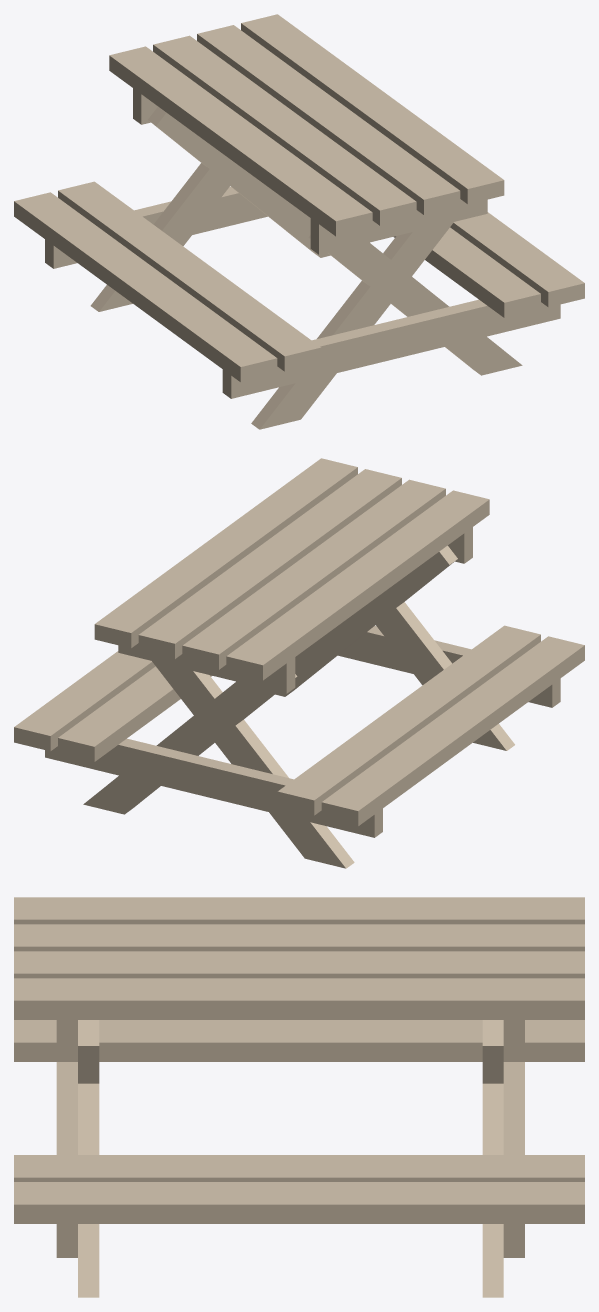
The model's file is outdoor_table.glb.
3 views of the same model, one above another, from view 1: azimuth 30°, elevation 25°; view 2: azimuth 150°, elevation 25°; view 3: azimuth 270°, elevation 25° (orthographic). The views are drawn at different scales.
Visible parts, largest first — view 1: Mesh_Mesh_head_geo.001_lambert2SG.001; view 2: Mesh_Mesh_head_geo.001_lambert2SG.001; view 3: Mesh_Mesh_head_geo.001_lambert2SG.001.
Part boxes in pixels (bbox=[...]): Mesh_Mesh_head_geo.001_lambert2SG.001: bbox=[14, 14, 584, 429]; Mesh_Mesh_head_geo.001_lambert2SG.001: bbox=[14, 458, 584, 868]; Mesh_Mesh_head_geo.001_lambert2SG.001: bbox=[14, 897, 584, 1297].
Size of the model in its own units: 0.047 by 0.028 by 0.0536.
